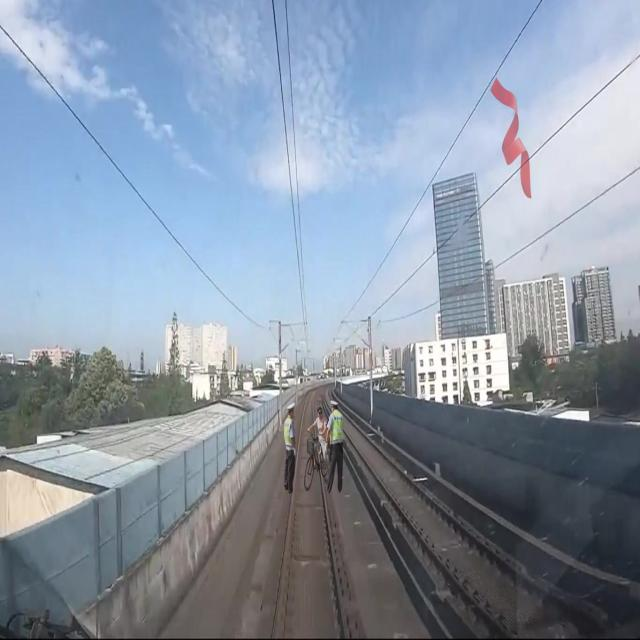floating object: (488, 70, 533, 197)
